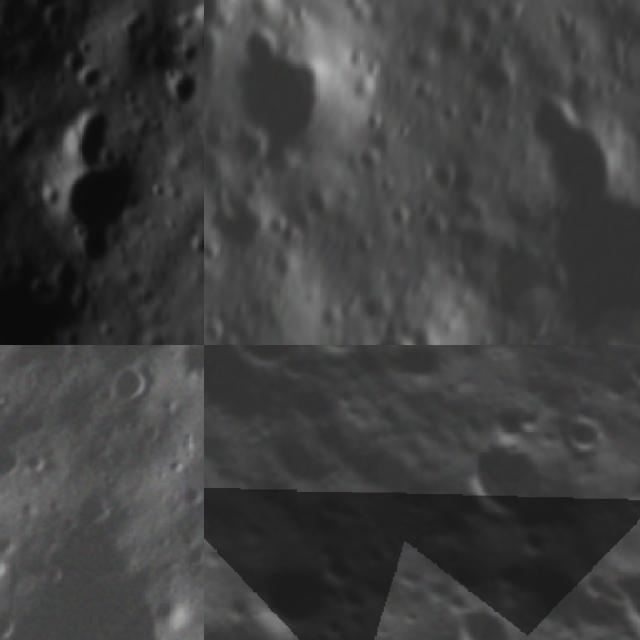crater: (0, 504, 204, 640), (442, 418, 562, 538), (229, 539, 344, 640), (252, 412, 354, 516), (204, 345, 299, 452), (52, 160, 153, 240), (584, 529, 640, 640), (306, 527, 378, 601), (94, 349, 167, 420), (46, 107, 124, 170), (548, 396, 618, 464), (436, 586, 522, 640), (478, 386, 540, 449), (210, 345, 316, 381), (384, 345, 453, 397), (161, 345, 204, 412), (213, 617, 336, 640), (293, 345, 378, 372), (525, 617, 606, 640), (73, 227, 117, 267), (162, 73, 202, 110), (415, 212, 452, 248), (72, 59, 108, 95), (41, 1, 76, 34), (56, 48, 88, 84), (617, 345, 640, 394), (432, 162, 461, 198), (299, 192, 333, 222), (347, 142, 383, 169), (0, 77, 15, 136), (349, 231, 378, 257), (367, 332, 424, 345), (204, 315, 228, 345), (185, 3, 204, 32), (497, 66, 519, 90), (361, 112, 388, 131), (187, 233, 204, 261), (342, 47, 370, 64), (362, 59, 382, 80)
